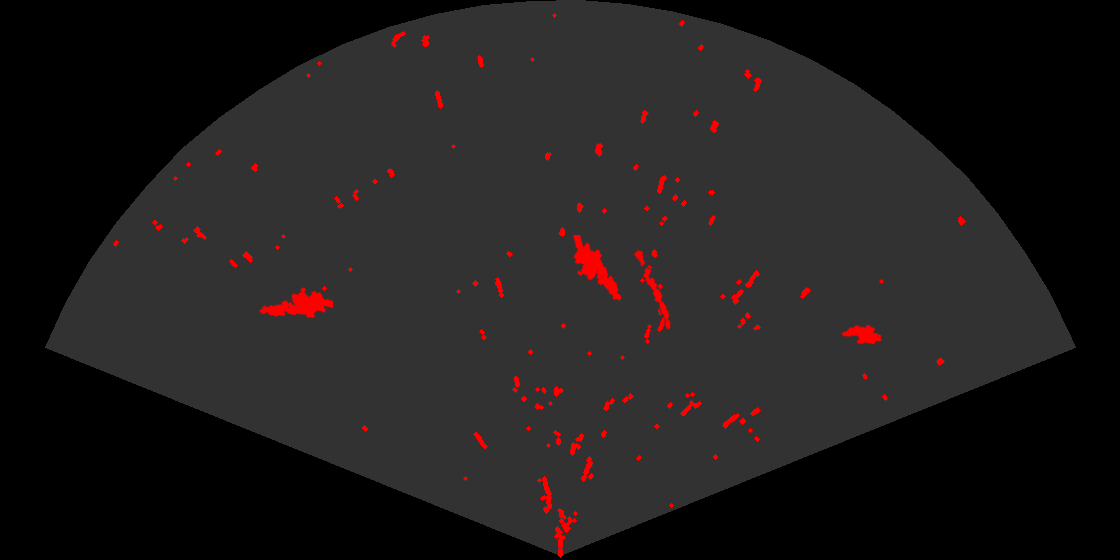AUV: (840, 323, 884, 346)
chain: (632, 246, 672, 331)
frogman: (572, 235, 623, 302), (258, 285, 333, 320)
